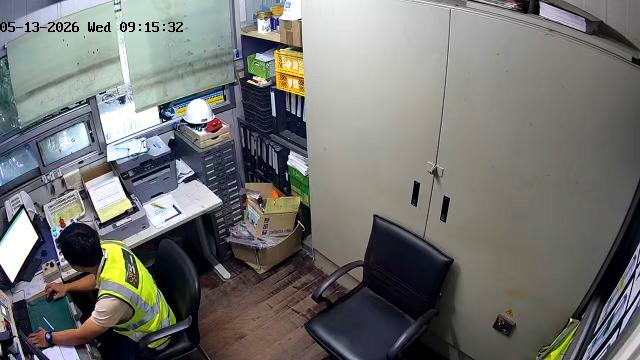Head: (58, 223, 102, 272)
People: (29, 223, 180, 359)
